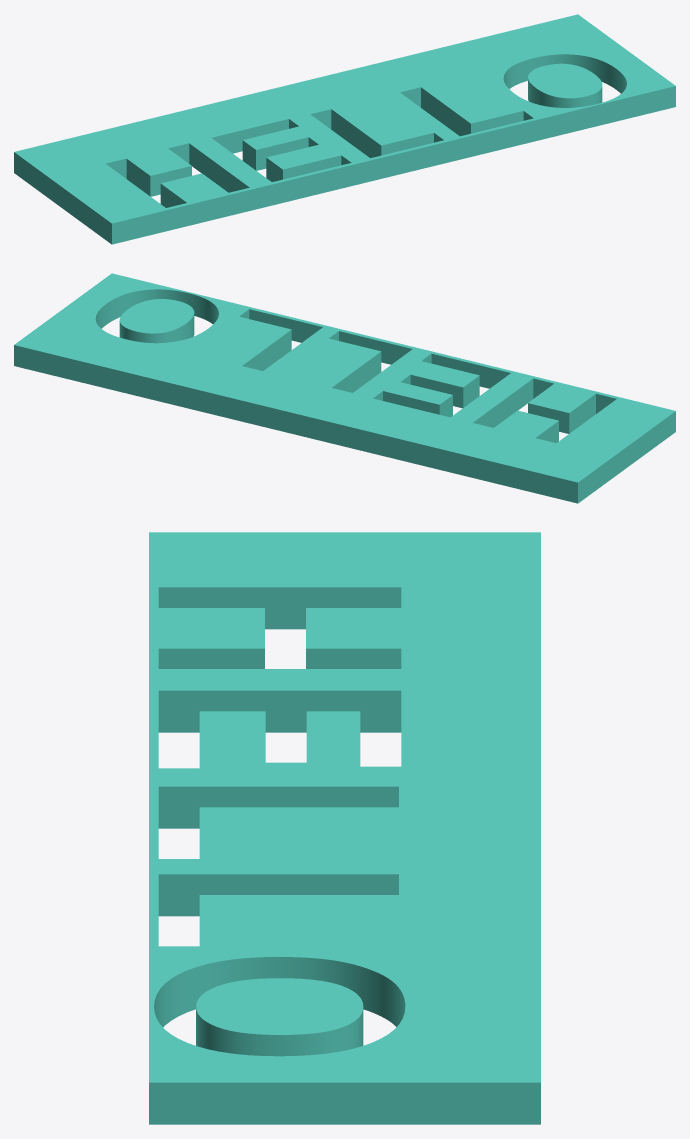
File: HELLO2.glb
3 renders of one model, top to bottom at view 1: azimuth 30°, elevation 25°; view 2: azimuth 150°, elevation 25°; view 3: azimuth 270°, elevation 25°, orthographic. The views are drawn at different scales.
Visible parts, largest first — view 1: Box002; view 2: Box002; view 3: Box002.
Boxes of the visible parts, left/top/right/bottom form: Box002: left=14, top=14, right=675, bottom=244; Box002: left=14, top=273, right=675, bottom=503; Box002: left=149, top=532, right=540, bottom=1124.
Size of the model in its own units: 40.13 by 1.43 by 12.06.
